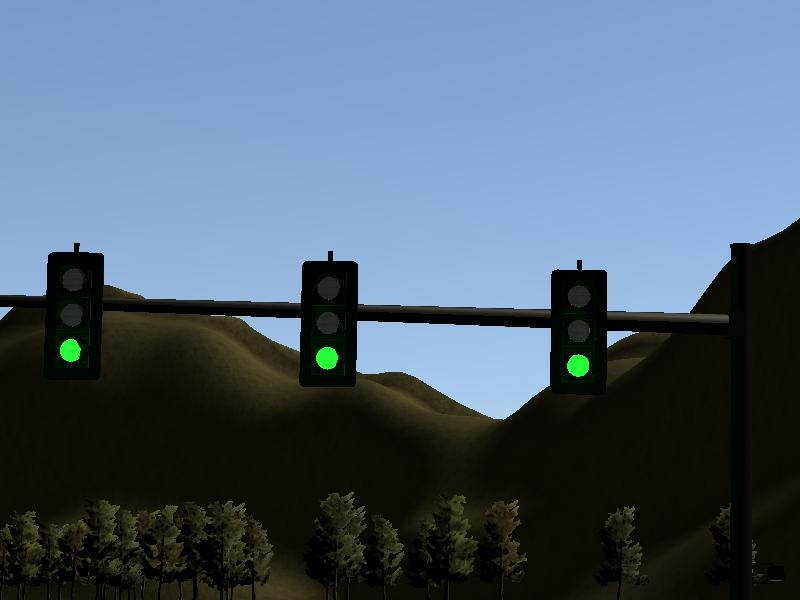GREEN: (42, 251, 105, 378), (548, 270, 607, 397), (300, 260, 359, 387)
